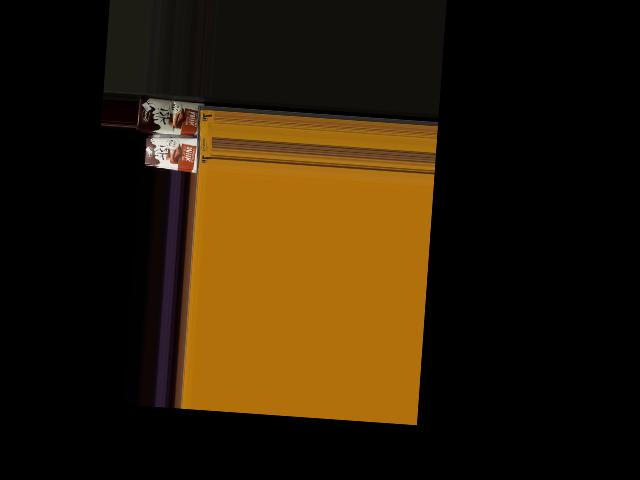chocolate: (142, 135, 205, 176)
